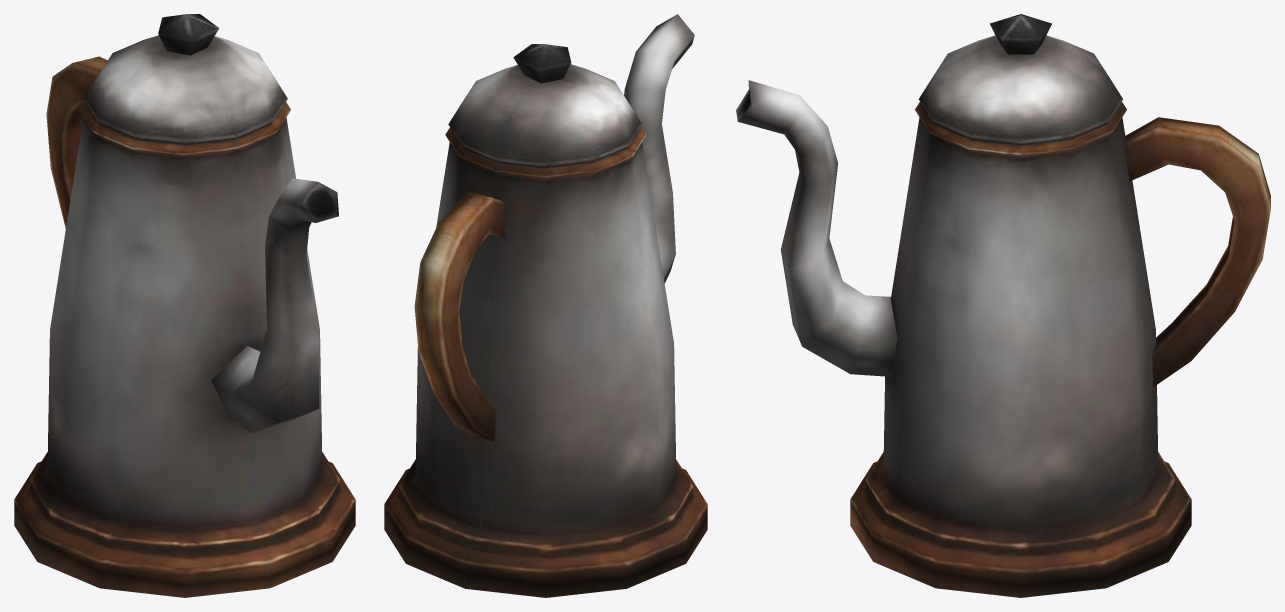
The model's file is SM_coffee pot_00.gltf.
3 views of the same model, side by side, from view 1: azimuth 30°, elevation 25°; view 2: azimuth 150°, elevation 25°; view 3: azimuth 270°, elevation 25° (orthographic). The views are drawn at different scales.
Parts seen in each view (by area): view 1: SM_coffee pot_00; view 2: SM_coffee pot_00; view 3: SM_coffee pot_00.
Part boxes in pixels (box(x1,y1,x2,y2)): SM_coffee pot_00: box(14, 14, 355, 597); SM_coffee pot_00: box(384, 14, 707, 597); SM_coffee pot_00: box(736, 14, 1270, 597).
Size of the model in its own units: 0.2714 by 0.449 by 0.4256.
1 material, 1 textured.
